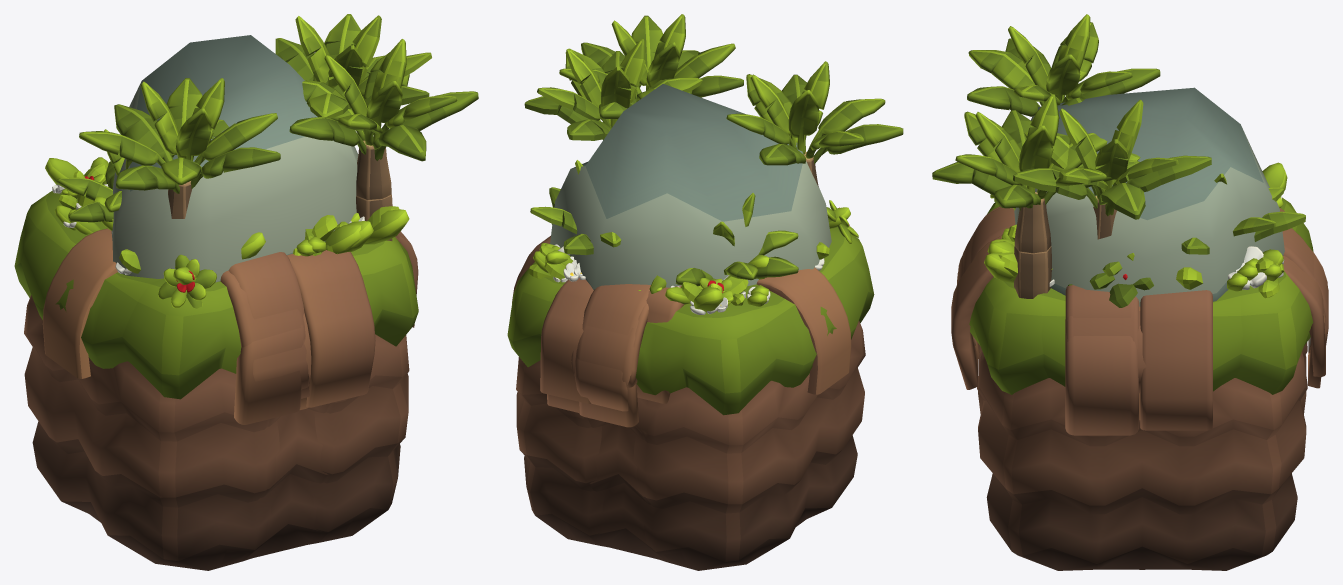
Rendered from Spring_Cubes_Last.fbx.
3 views of the same model, side by side, from view 1: azimuth 30°, elevation 25°; view 2: azimuth 150°, elevation 25°; view 3: azimuth 270°, elevation 25° (orthographic). The views are drawn at different scales.
Visible parts, largest first — view 1: Spring_Cube1, Spring_Cube_03.002, Spring_Cube1.001, Tree_Spring.004, Tree_Spring, Road12, Spring_Cube2.001, Spring_Cube2, Tree_Spring.005, Road1, Road7, Road10 (+9 smaller); view 2: Spring_Cube1, Spring_Cube_03.002, Spring_Cube1.001, Tree_Spring.004, Tree_Spring.005, Tree_Spring, Spring_Cube2.001, Spring_Cube2, Road1, Road8, Road7, Road (+7 smaller); view 3: Spring_Cube1, Spring_Cube_03.002, Spring_Cube1.001, Tree_Spring, Road11, Tree_Spring.005, Tree_Spring.004, Road, Road12, Spring_Cube2.001, Road8, Spring_Cube_10 (+7 smaller).
Boxes of the visible parts, x1=… form: Spring_Cube1: x1=24, y1=295, x2=409, y2=570; Spring_Cube_03.002: x1=111, y1=35, x2=358, y2=282; Spring_Cube1.001: x1=14, y1=191, x2=418, y2=399; Tree_Spring.004: x1=79, y1=78, x2=280, y2=218; Tree_Spring: x1=289, y1=39, x2=478, y2=240; Road12: x1=287, y1=231, x2=405, y2=407; Spring_Cube2.001: x1=21, y1=205, x2=149, y2=368; Spring_Cube2: x1=64, y1=403, x2=352, y2=564; Tree_Spring.005: x1=275, y1=14, x2=431, y2=118; Road1: x1=42, y1=228, x2=117, y2=378; Road7: x1=234, y1=321, x2=305, y2=424; Road10: x1=220, y1=233, x2=399, y2=389; Spring_Cube1: x1=516, y1=321, x2=865, y2=570; Spring_Cube_03.002: x1=550, y1=83, x2=831, y2=289; Spring_Cube1.001: x1=507, y1=227, x2=874, y2=415; Tree_Spring.004: x1=726, y1=61, x2=903, y2=186; Tree_Spring.005: x1=524, y1=39, x2=702, y2=140; Tree_Spring: x1=559, y1=14, x2=743, y2=118; Spring_Cube2.001: x1=739, y1=239, x2=868, y2=387; Spring_Cube2: x1=567, y1=418, x2=828, y2=565; Road1: x1=756, y1=267, x2=851, y2=394; Road8: x1=574, y1=284, x2=650, y2=411; Road7: x1=540, y1=278, x2=593, y2=403; Road: x1=577, y1=320, x2=638, y2=427; Spring_Cube1: x1=977, y1=342, x2=1307, y2=570; Spring_Cube_03.002: x1=1014, y1=87, x2=1284, y2=306; Spring_Cube1.001: x1=969, y1=197, x2=1313, y2=394; Tree_Spring: x1=932, y1=94, x2=1139, y2=298; Road11: x1=1140, y1=290, x2=1212, y2=430; Tree_Spring.005: x1=1013, y1=99, x2=1211, y2=239; Tree_Spring.004: x1=967, y1=14, x2=1160, y2=116; Road: x1=1065, y1=245, x2=1327, y2=435; Road12: x1=951, y1=235, x2=1139, y2=422; Spring_Cube2.001: x1=1041, y1=289, x2=1242, y2=391; Road8: x1=971, y1=207, x2=1328, y2=347; Spring_Cube_10: x1=1007, y1=173, x2=1305, y2=254.
Bounding box in the file's own units: 122 × 157 × 120.
